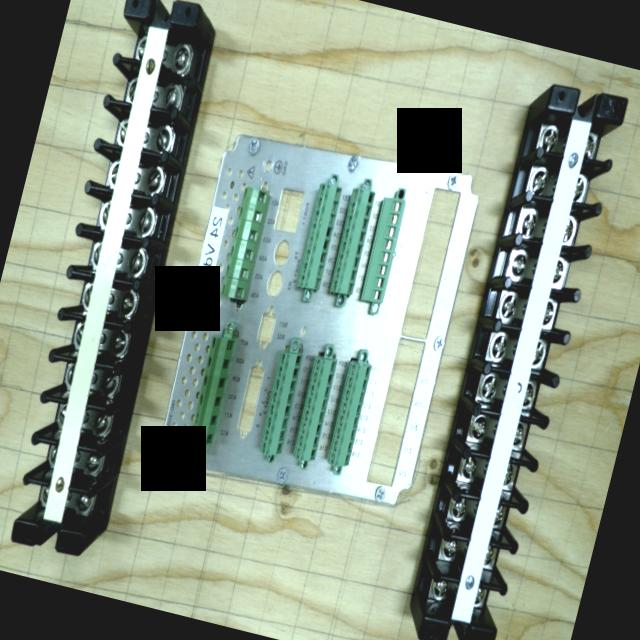Flathead_Block: (11, 0, 198, 556)
Phillips_Block: (419, 82, 627, 640)
Terminal_1: (220, 186, 268, 300), (189, 334, 235, 449)
Terminal_2: (329, 186, 375, 296), (296, 182, 342, 291), (292, 355, 337, 464), (326, 361, 371, 469), (258, 349, 302, 459)
